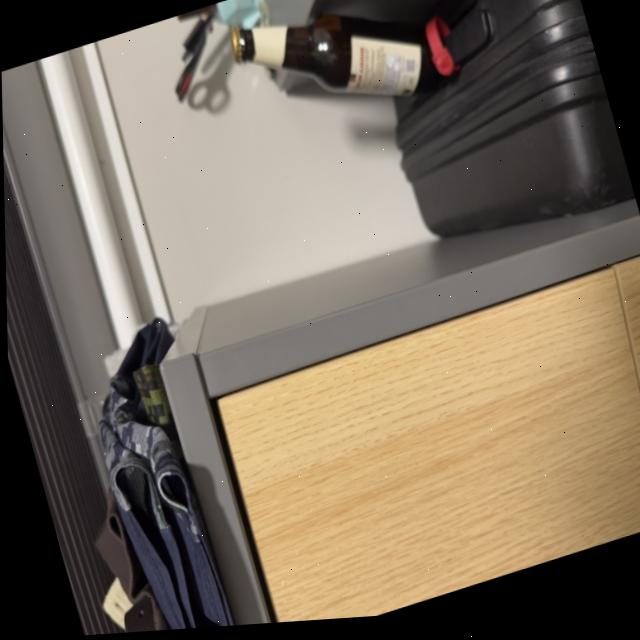beer: (221, 0, 454, 161)
